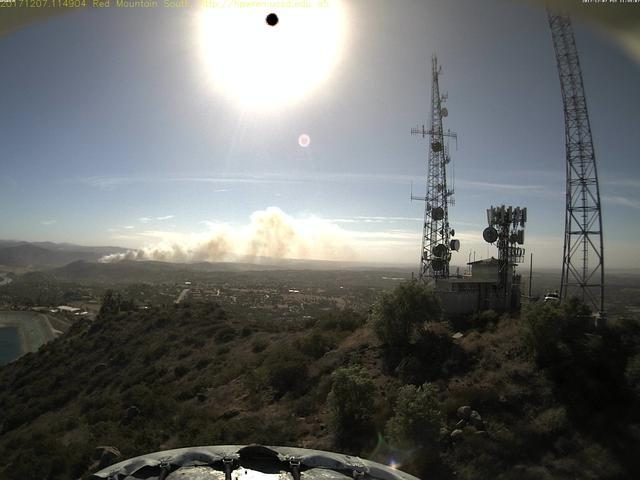smoke: (96, 202, 383, 269)
